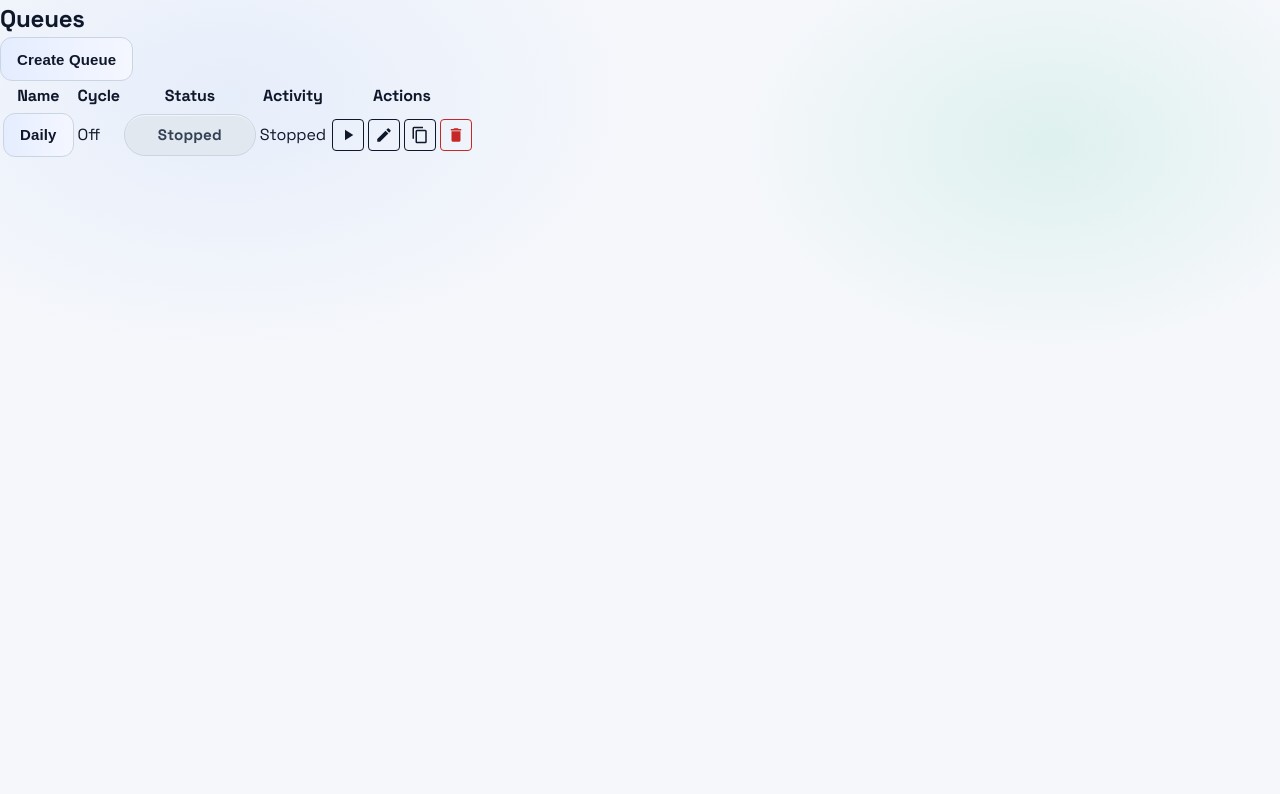
Test: QueuesPage edit layout › shows the emulator read-only with no "cannot be changed" hint
The width and height of the screenshot is (1280, 794).
Click the button "Daily".
click(38, 135)  # box [3, 113, 74, 157]
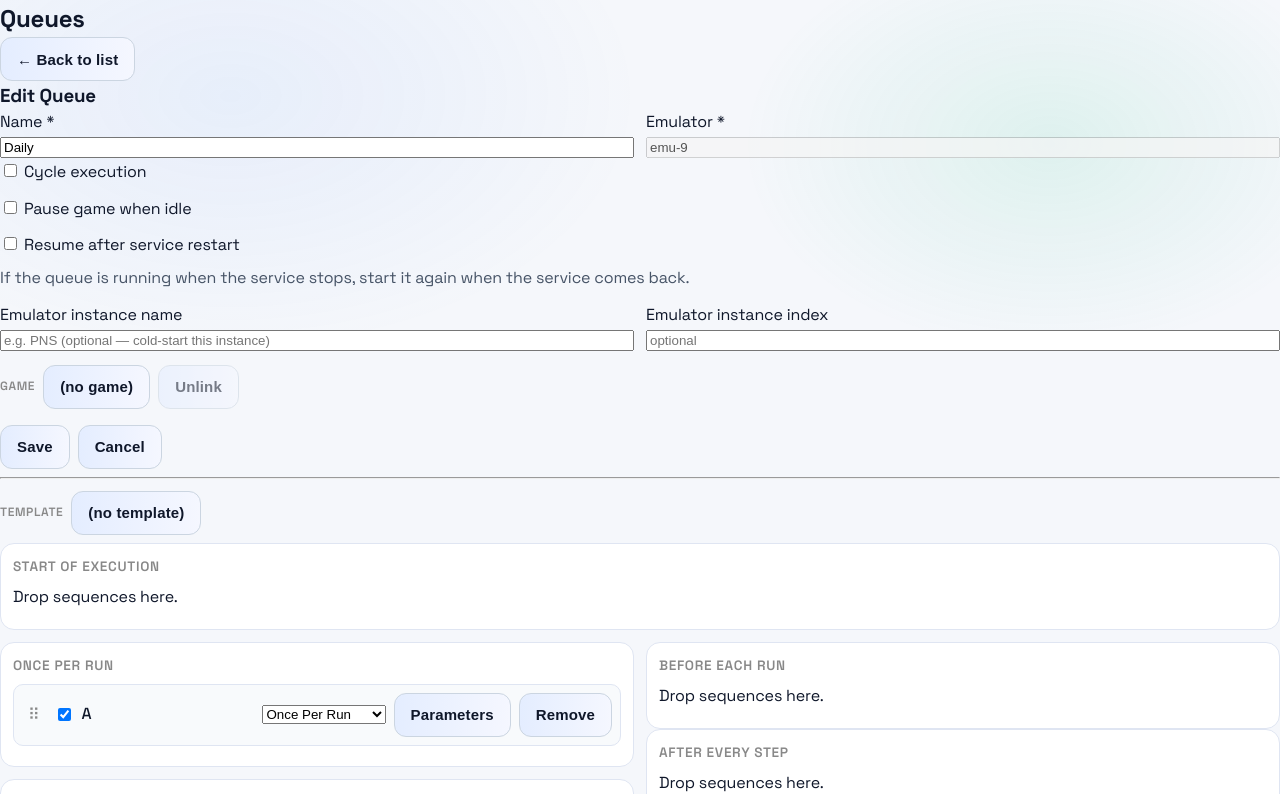
Now the heading "Edit Queue" is shown, box [0, 84, 96, 107]
Now the field labelled "Emulator *" is disabled, box [646, 137, 1279, 158]
Now the field labelled "Emulator *" holds "emu-9", box [646, 137, 1279, 158]
